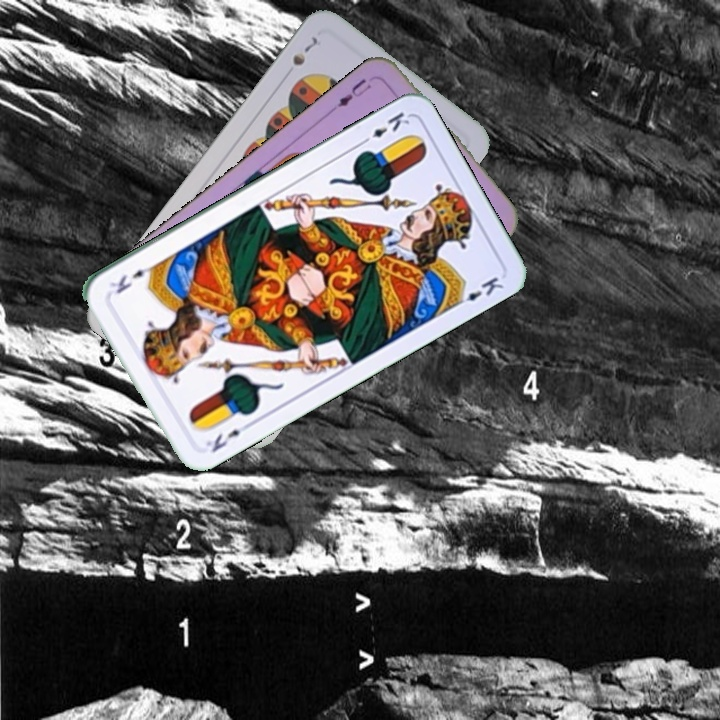EK: (357, 108, 413, 148), (201, 419, 253, 456)
EU: (333, 74, 374, 110)
S7: (288, 32, 321, 69)
